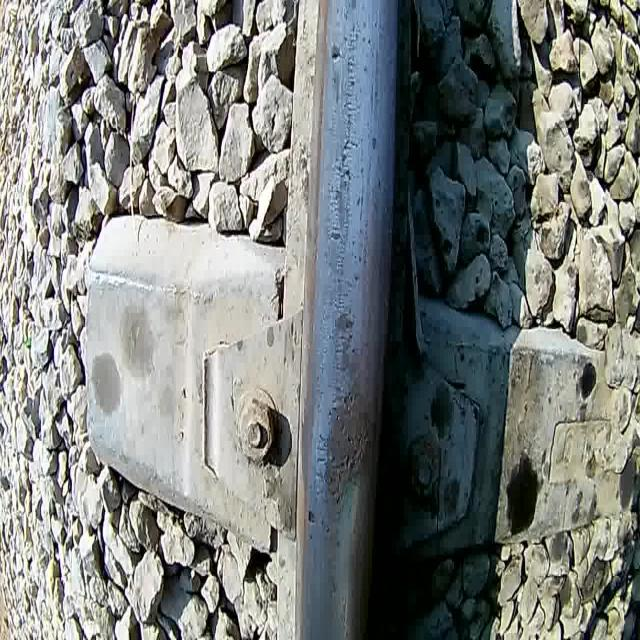Squats: (321, 378, 377, 515), (334, 337, 364, 380), (328, 308, 359, 336)
